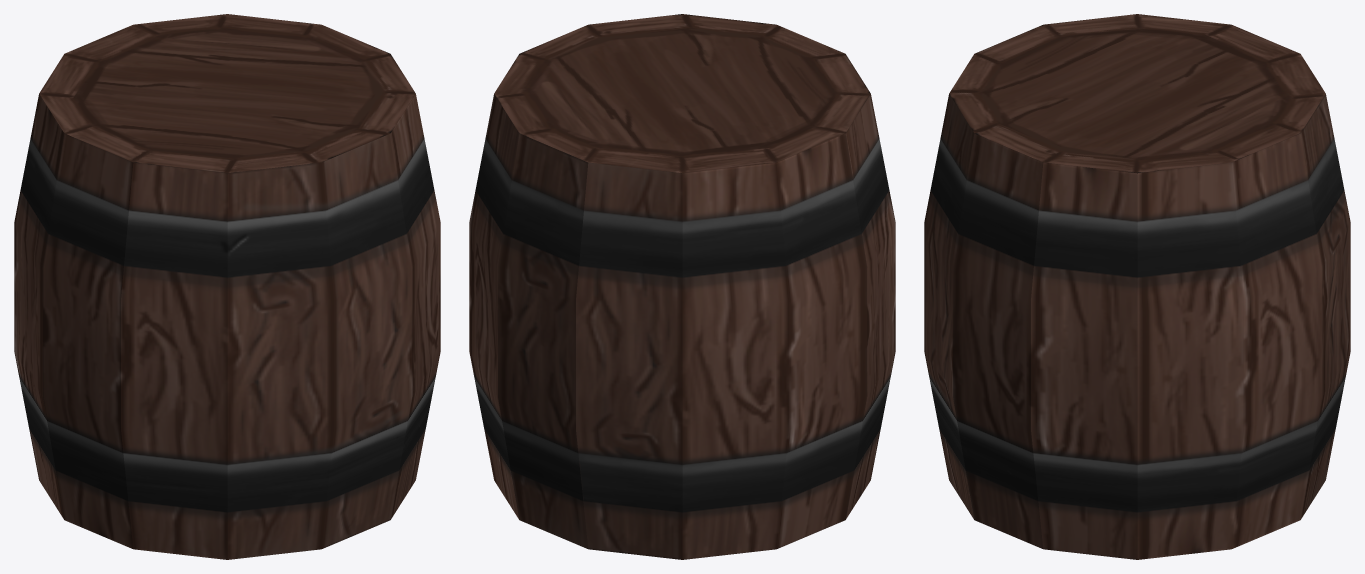
Rendered from barrel dicht nieuw.fbx.
3 renders of one model, left to right at view 1: azimuth 30°, elevation 25°; view 2: azimuth 150°, elevation 25°; view 3: azimuth 270°, elevation 25°, orthographic.
Visible parts, largest first — view 1: pCylinder1; view 2: pCylinder1; view 3: pCylinder1.
Part boxes in pixels (x1,y1,x2,y2): pCylinder1: [14, 14, 440, 559]; pCylinder1: [469, 14, 895, 559]; pCylinder1: [924, 14, 1350, 559].
Bounding box in the file's own units: 2 × 2 × 2.
